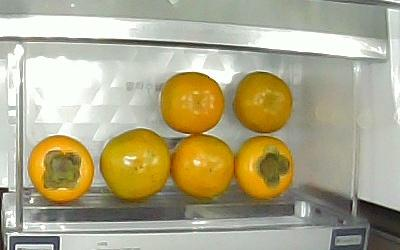persimmon: (99, 126, 170, 201), (27, 135, 95, 205), (171, 134, 234, 199), (160, 72, 226, 134), (232, 70, 294, 134)
